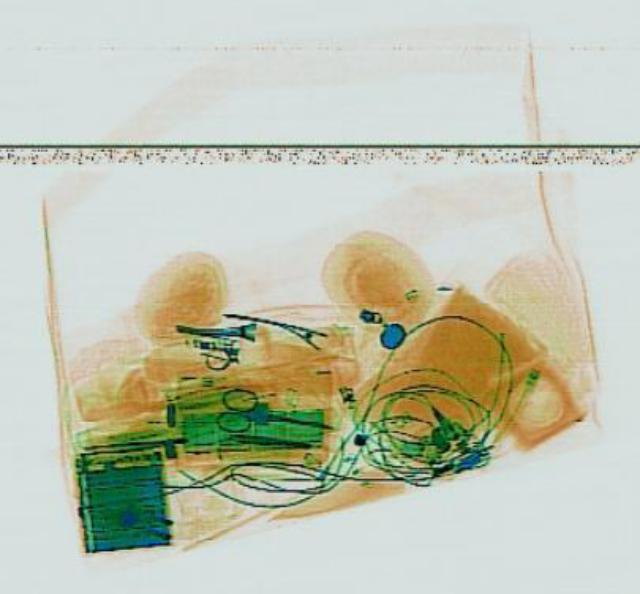Scissors: (212, 384, 336, 443)
